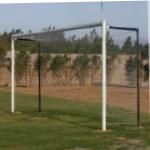goals: (9, 18, 143, 134)
